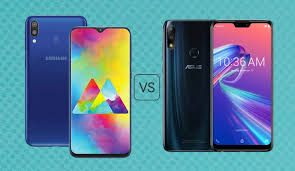asus: (209, 16, 276, 155), (162, 17, 213, 155)
samsung: (22, 14, 136, 162)
